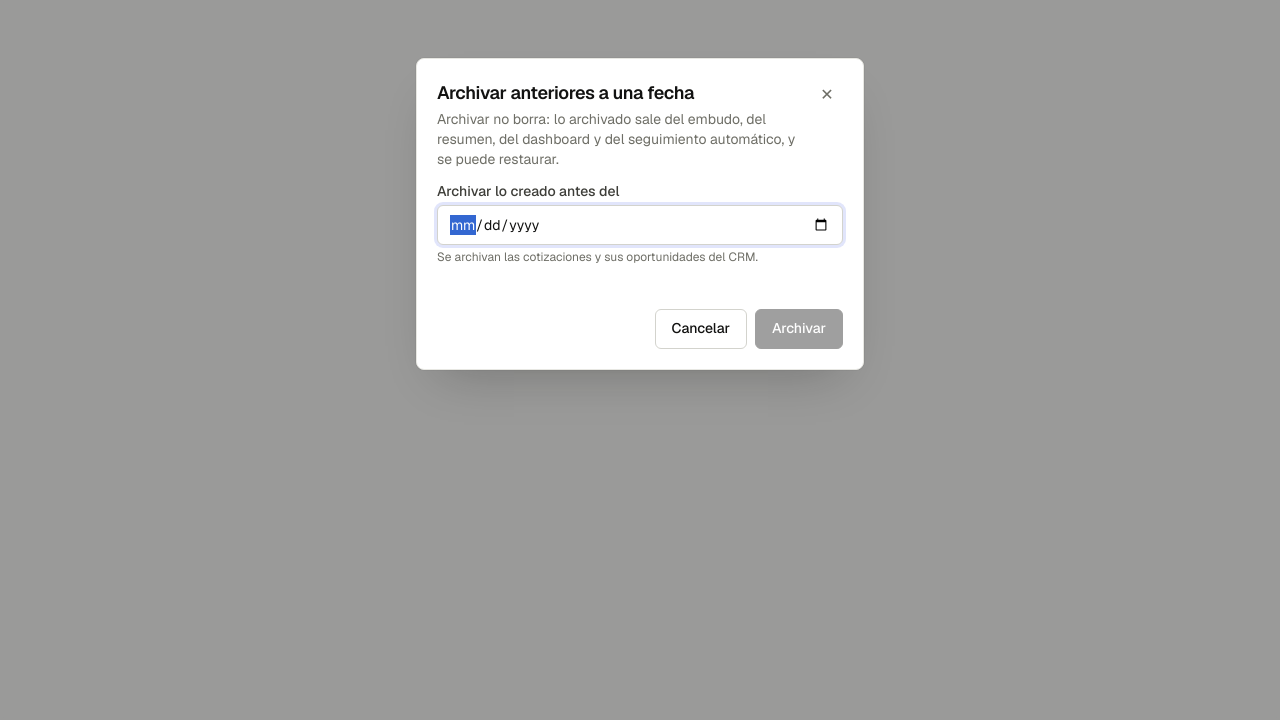
ArchivarAnterioresDialogo › consulta la vista previa y archiva con la fecha elegida
This screenshot has width=1280, height=720.
Later steps or results of the test are not shown.
expect the button "Archivar" is disabled: met, box [755,309,843,349]
Type "2026-01-01" into the date field labelled "Archivar lo creado antes del" at (640, 225), box [437,205,843,245]
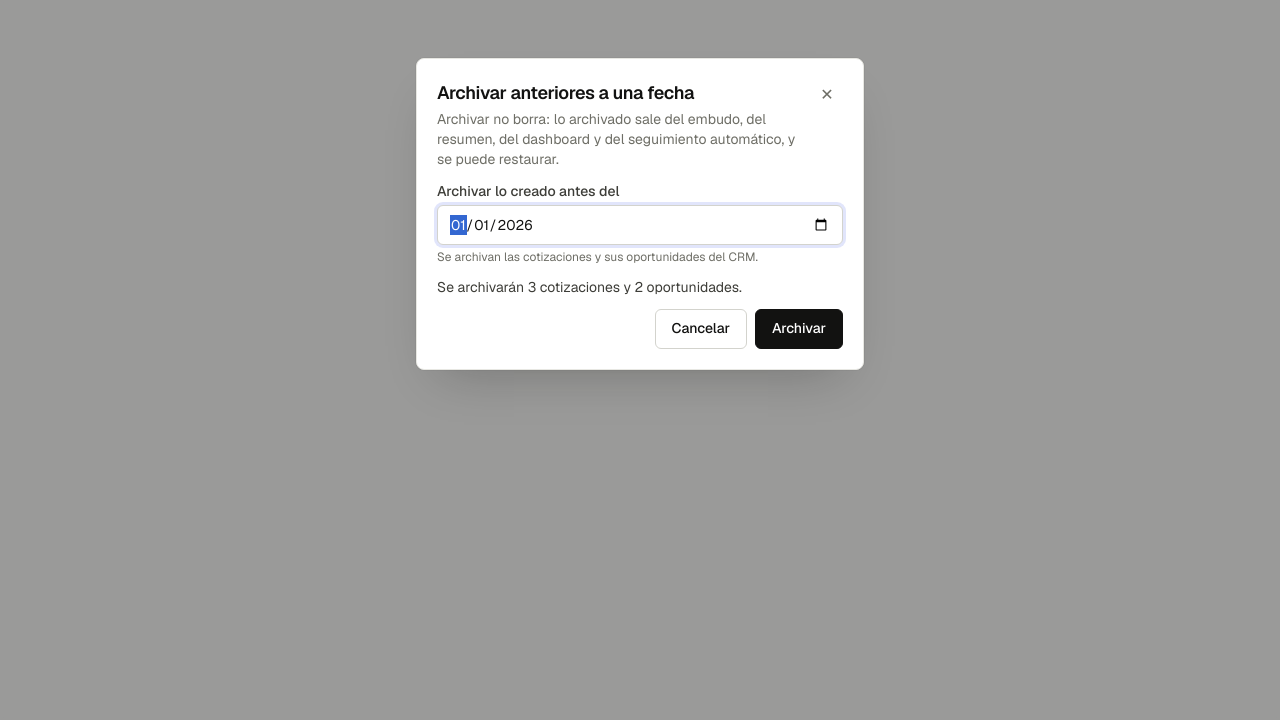
expect the text "Se archivarán 3 cotizaciones y 2 oportunidades." is shown: met, box [437,278,742,296]
